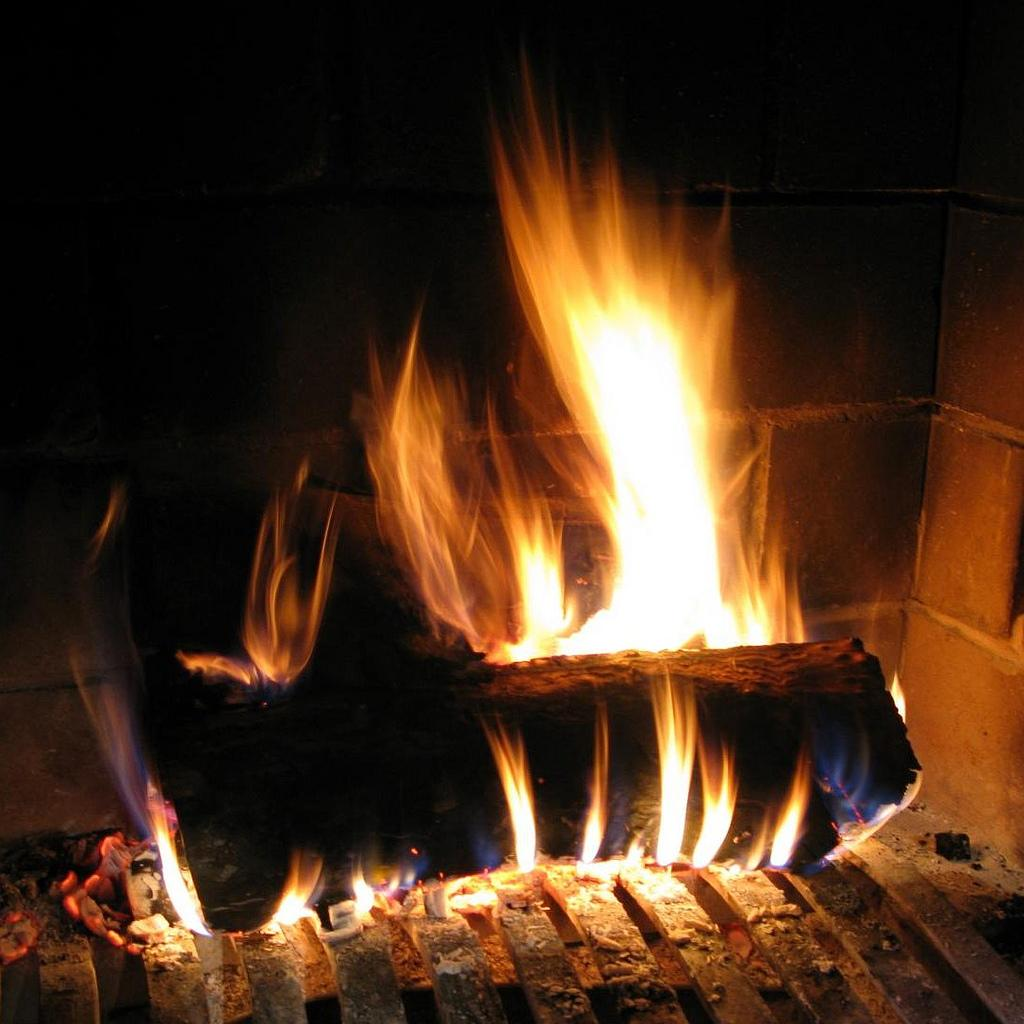fire: (560, 290, 755, 660), (538, 778, 812, 882)
